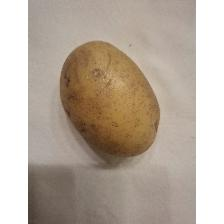Kartoffel: (55, 36, 162, 160)
